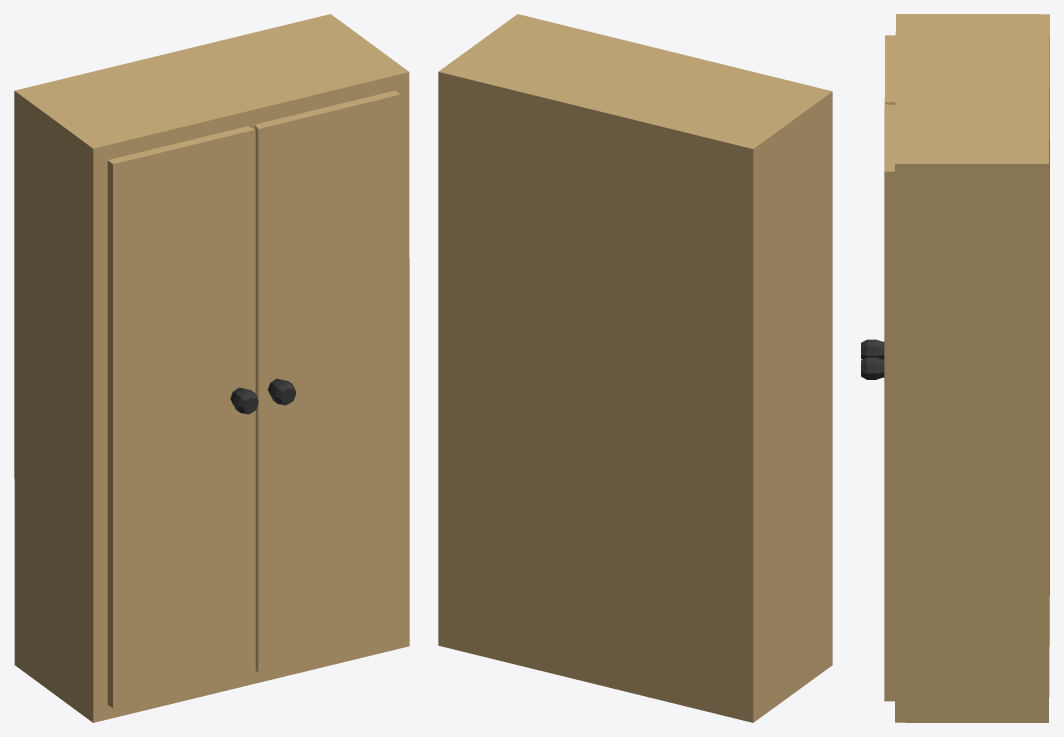
The model's file is Wardrobe.fbx.
3 views of the same model, side by side, from view 1: azimuth 30°, elevation 25°; view 2: azimuth 150°, elevation 25°; view 3: azimuth 270°, elevation 25° (orthographic). The views are drawn at different scales.
Visible parts, largest first — view 1: Mesh_0205.rip.029; view 2: Mesh_0205.rip.029; view 3: Mesh_0205.rip.029.
Part boxes in pixels (x1,y1,x2,y2): Mesh_0205.rip.029: [14, 14, 409, 722]; Mesh_0205.rip.029: [438, 14, 832, 722]; Mesh_0205.rip.029: [861, 14, 1049, 722].
Size of the model in its own units: 3.62 by 6.29 by 1.93.
